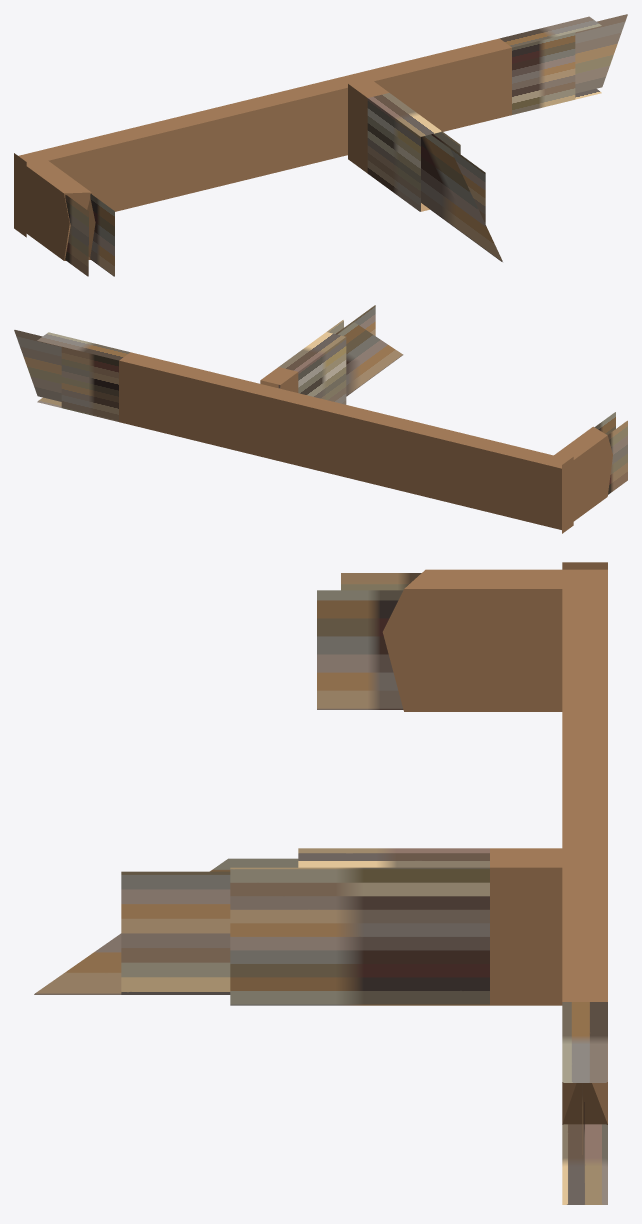
Rendered from DBK_WoodFrame_Floor_End_Short_B.fbx.
3 renders of one model, top to bottom at view 1: azimuth 30°, elevation 25°; view 2: azimuth 150°, elevation 25°; view 3: azimuth 270°, elevation 25°, orthographic. The views are drawn at different scales.
Visible parts, largest first — view 1: DBK_WoodFrame_Floor_End_Short_B; view 2: DBK_WoodFrame_Floor_End_Short_B; view 3: DBK_WoodFrame_Floor_End_Short_B.
Boxes of the visible parts, left/top/right/bottom form: DBK_WoodFrame_Floor_End_Short_B: left=14, top=14, right=627, bottom=276; DBK_WoodFrame_Floor_End_Short_B: left=14, top=305, right=627, bottom=533; DBK_WoodFrame_Floor_End_Short_B: left=34, top=562, right=607, bottom=1204.
Size of the model in its own units: 139 by 16.58 by 62.53.
